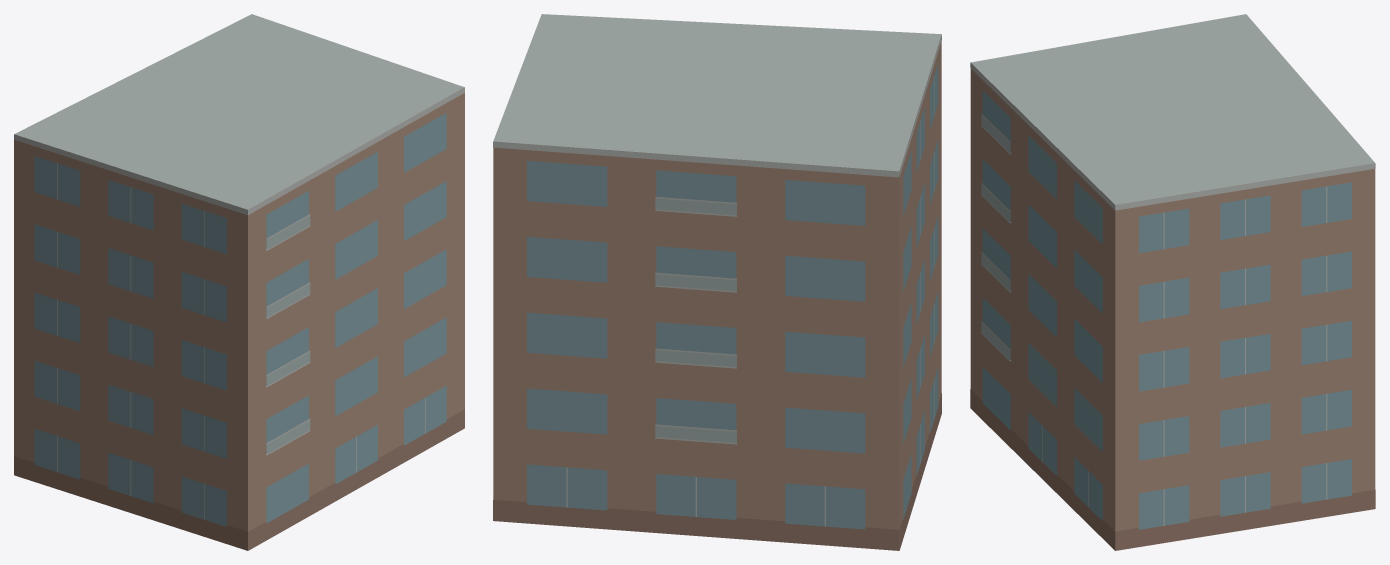
Rendered from residential-f85bdc7e-6099-4aa1-ac45-ac0e35674f85.glb.
3 views of the same model, side by side, from view 1: azimuth 30°, elevation 25°; view 2: azimuth 150°, elevation 25°; view 3: azimuth 270°, elevation 25° (orthographic). The views are drawn at different scales.
Visible parts, largest first — view 1: residential-f85bdc7e-6099-4aa1-ac45-ac0e35674f85.tmp; view 2: residential-f85bdc7e-6099-4aa1-ac45-ac0e35674f85.tmp; view 3: residential-f85bdc7e-6099-4aa1-ac45-ac0e35674f85.tmp.
Part boxes in pixels (<box>): residential-f85bdc7e-6099-4aa1-ac45-ac0e35674f85.tmp: <box>14,14,464,550</box>; residential-f85bdc7e-6099-4aa1-ac45-ac0e35674f85.tmp: <box>493,14,941,550</box>; residential-f85bdc7e-6099-4aa1-ac45-ac0e35674f85.tmp: <box>970,14,1375,550</box>.
Size of the model in its own units: 18.08 by 15.25 by 16.2.
